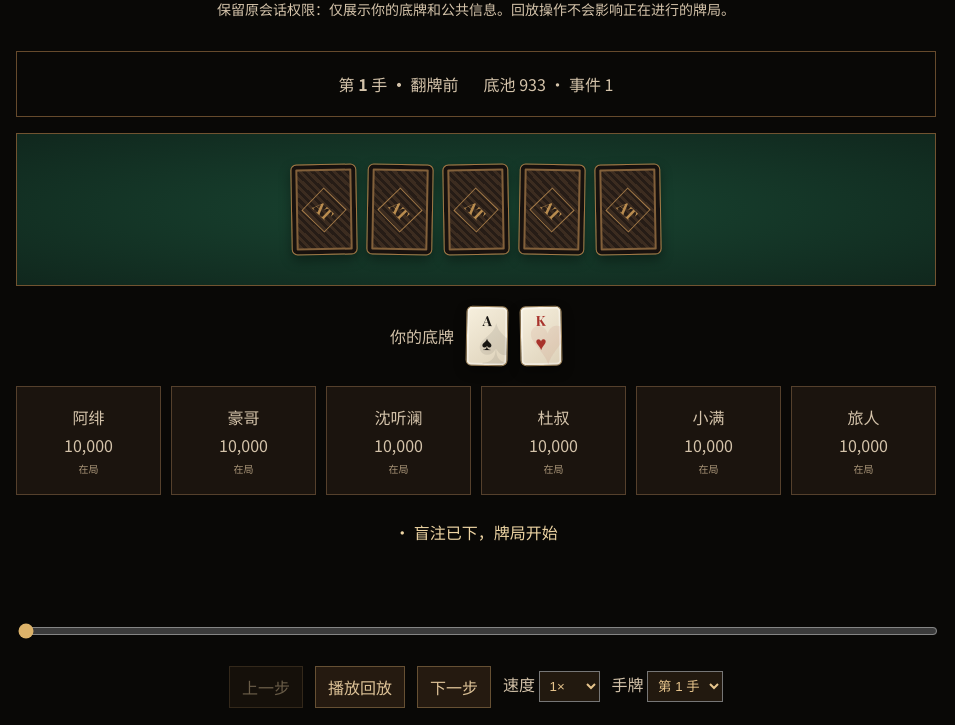
Test: replay pagination › ignores an aborted StrictMode response that arrives after the replacement load
(page scrolled)
Click the button "下一步": (454, 687) [417,666,491,708]
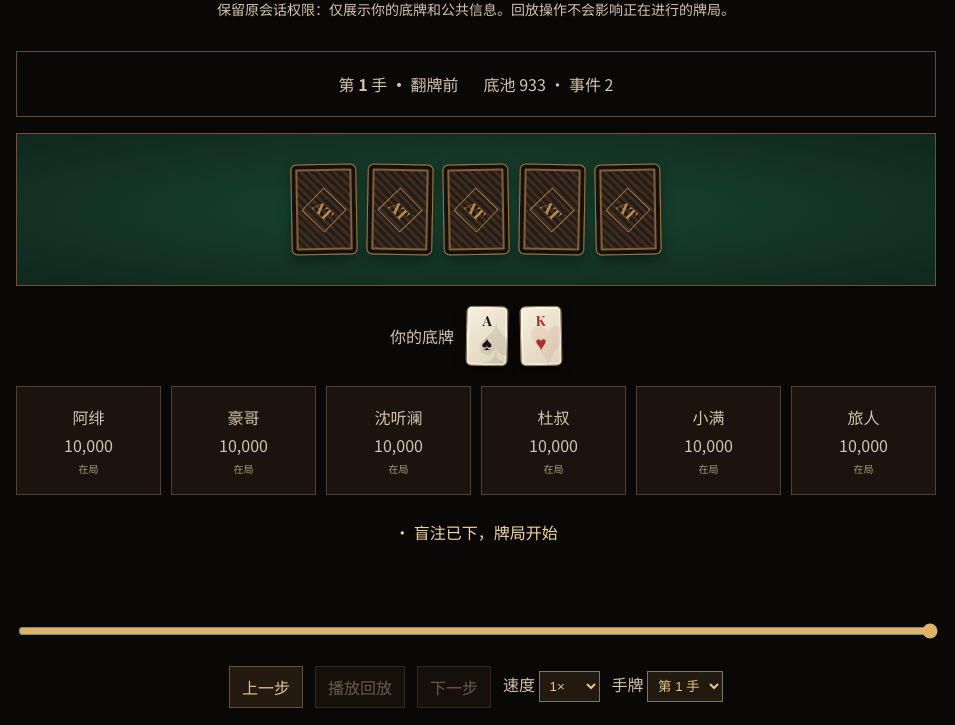
Expected: the text "底池 933 · 事件 2" is shown, [484,72,614,96]
